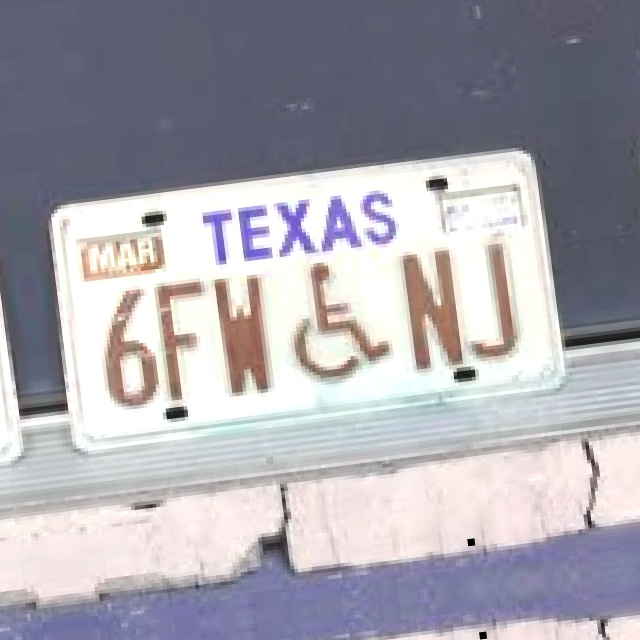ISA: (281, 257, 390, 386)
